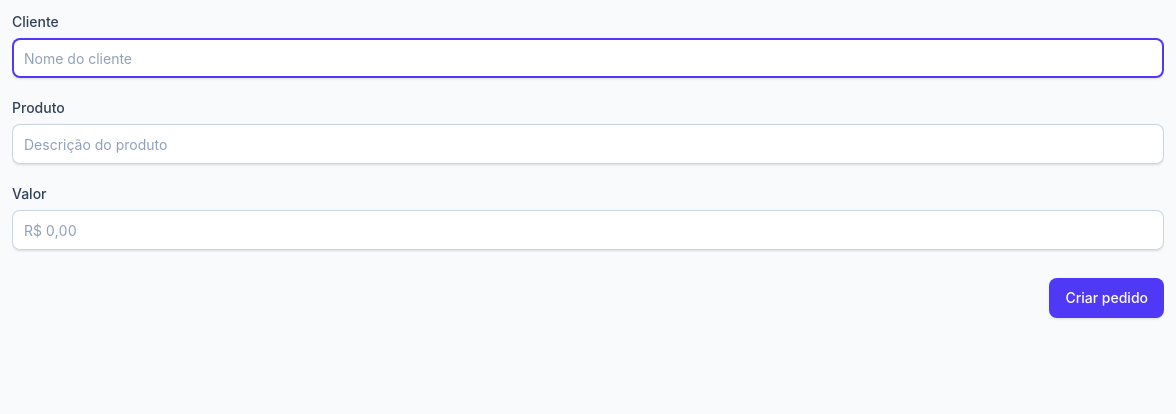
Test: OrderForm › exibe erros de validação e não envia com campos vazios
Step 1. Click the button "Criar pedido" → (1107, 298), box top-left (1049, 278), bottom-right (1164, 318)
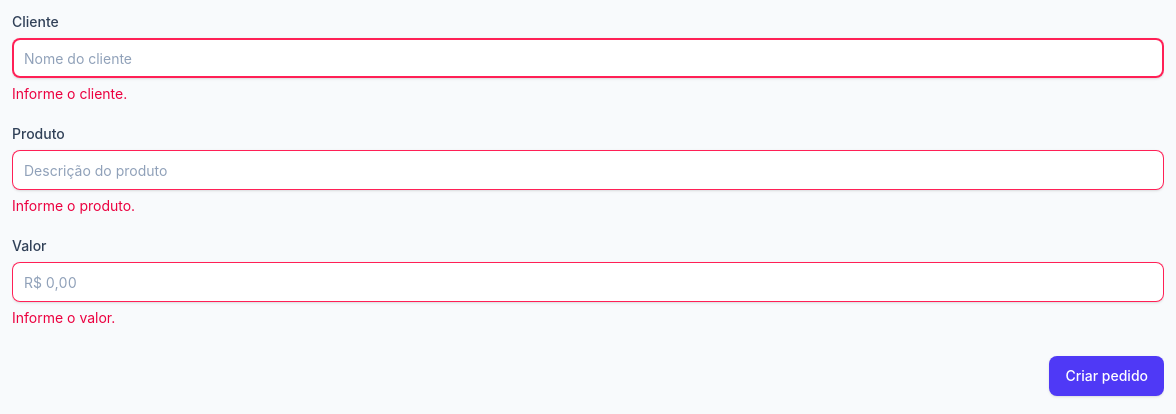
Expected: the text "Informe o cliente." is shown, top-left (12, 85), bottom-right (127, 102)
Expected: the text "Informe o produto." is shown, top-left (12, 197), bottom-right (135, 214)
Expected: the text "Informe o valor." is shown, top-left (12, 309), bottom-right (115, 326)
